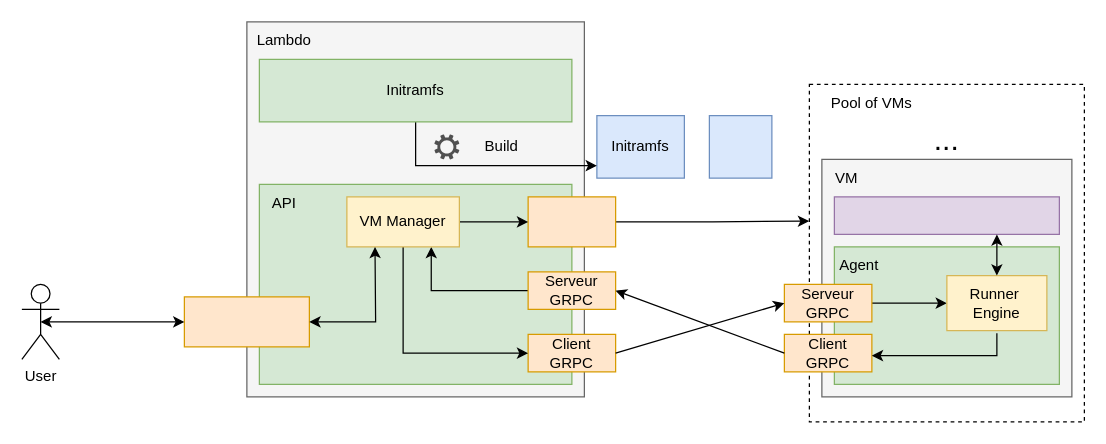
This 1106x444 diagram has some shape labels left out. Each missing label, with the centre of its shape:
Linux Kernel: (x=740, y=146)
Lumper: (x=571, y=221)
Serveur HTTP: (x=246, y=321)
Workspace: (x=946, y=215)
